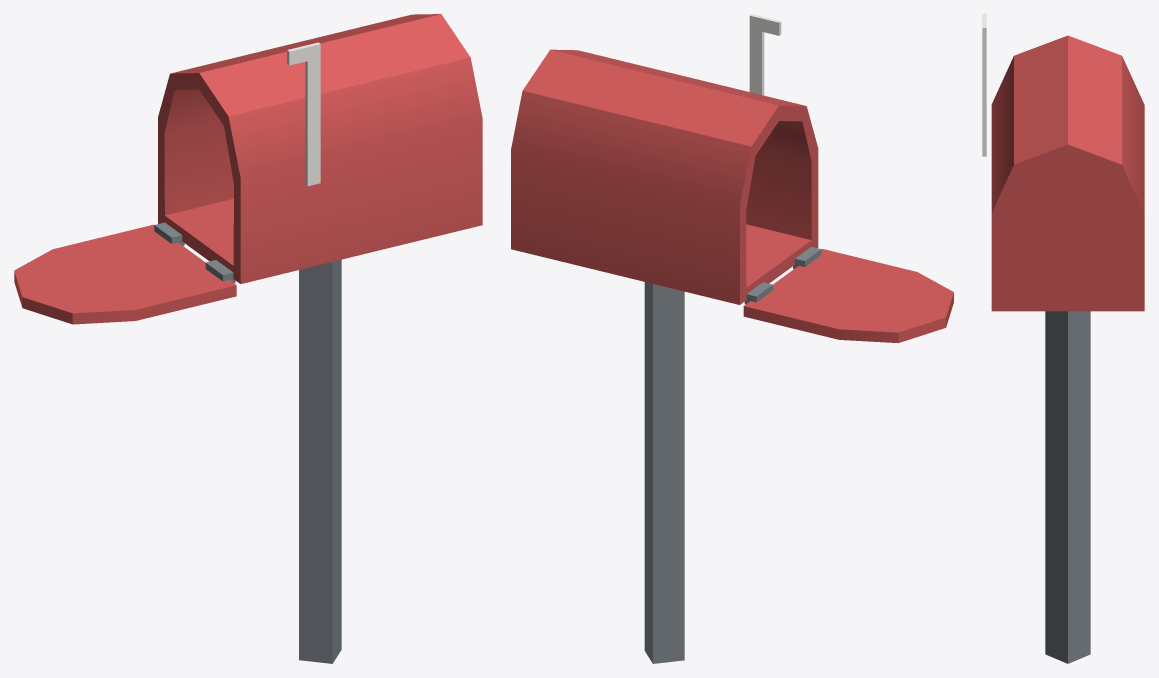
File: mailbox_red_small.fbx
The picture shows the model from 3 angles, left to right: view 1: azimuth 30°, elevation 25°; view 2: azimuth 150°, elevation 25°; view 3: azimuth 270°, elevation 25°; orthographic projection. The views are drawn at different scales.
Visible parts, largest first — view 1: pCylinder2; view 2: pCylinder2; view 3: pCylinder2.
Boxes of the visible parts, x1,y1,x2,y2 form: pCylinder2: [14, 14, 482, 663]; pCylinder2: [511, 14, 953, 663]; pCylinder2: [982, 14, 1144, 663].
Size of the model in its own units: 31.82 by 47.62 by 11.55.
